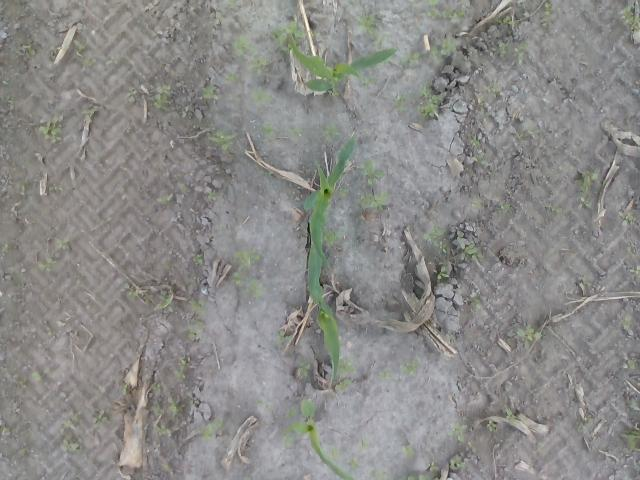Maize: (302, 134, 356, 317), (287, 28, 398, 92), (285, 397, 358, 480), (315, 302, 341, 383)
Weeds: (269, 21, 303, 54), (416, 81, 443, 119), (422, 224, 447, 255), (38, 115, 64, 144), (572, 168, 598, 196), (360, 160, 386, 186), (356, 190, 388, 211), (234, 247, 260, 271), (516, 324, 542, 348), (150, 84, 171, 112), (60, 432, 84, 456), (619, 3, 640, 30), (207, 130, 234, 151), (242, 278, 266, 300), (233, 34, 255, 56), (357, 12, 378, 35), (59, 409, 82, 430), (154, 290, 174, 314), (620, 428, 640, 452), (459, 242, 484, 260), (250, 86, 271, 107), (187, 317, 206, 340), (448, 422, 469, 442), (247, 56, 269, 75), (335, 356, 357, 375), (441, 8, 467, 24), (319, 124, 342, 142), (320, 230, 345, 246), (173, 356, 190, 379), (432, 260, 450, 281), (393, 92, 411, 112), (90, 409, 110, 427), (400, 358, 420, 376), (36, 257, 58, 273), (428, 45, 446, 64), (167, 397, 185, 416), (198, 422, 216, 440), (254, 396, 272, 414), (367, 466, 390, 480), (272, 329, 292, 345), (401, 52, 422, 67), (448, 453, 466, 470), (30, 366, 50, 381), (258, 123, 278, 138), (514, 43, 528, 64), (398, 473, 440, 480), (12, 375, 28, 393), (618, 210, 636, 226), (469, 290, 482, 312), (72, 38, 86, 58), (494, 14, 517, 26), (18, 41, 36, 56), (287, 125, 305, 140), (400, 444, 416, 460), (188, 298, 205, 313), (202, 86, 220, 100), (441, 38, 455, 56), (378, 366, 396, 380), (153, 423, 172, 436), (124, 89, 140, 104), (544, 202, 564, 214), (124, 282, 138, 299), (54, 236, 71, 250), (47, 44, 61, 61), (358, 435, 372, 452), (505, 408, 518, 426), (231, 270, 245, 286), (296, 362, 312, 376), (334, 378, 352, 390), (326, 446, 340, 461), (618, 316, 633, 330), (223, 72, 240, 84), (82, 106, 96, 120), (578, 196, 592, 210), (498, 200, 512, 214), (361, 77, 376, 90), (491, 42, 506, 55), (149, 403, 165, 415), (16, 181, 28, 196), (105, 54, 120, 66), (156, 194, 174, 204), (150, 381, 162, 395), (346, 456, 360, 468), (426, 460, 440, 472), (486, 418, 498, 432), (622, 358, 636, 370), (374, 33, 386, 46), (190, 253, 203, 265), (486, 84, 501, 94), (48, 183, 64, 192), (282, 434, 294, 446), (580, 274, 592, 286), (206, 189, 217, 202), (84, 57, 98, 67), (630, 398, 640, 412), (336, 187, 350, 197), (428, 8, 440, 19), (4, 94, 15, 106), (466, 441, 477, 453), (379, 56, 392, 66), (626, 245, 636, 258), (576, 416, 584, 432), (186, 392, 195, 406), (629, 265, 640, 276), (214, 10, 222, 25), (470, 134, 480, 146), (213, 417, 223, 429), (258, 168, 272, 176), (539, 18, 550, 28), (475, 153, 485, 164), (0, 425, 11, 435), (284, 409, 296, 418), (544, 2, 552, 15), (482, 112, 492, 122), (119, 384, 129, 394), (472, 198, 482, 208), (536, 442, 545, 452), (161, 462, 170, 472), (586, 414, 596, 423), (182, 106, 190, 117), (456, 229, 463, 241), (328, 88, 338, 96), (514, 131, 524, 139), (46, 326, 54, 336), (446, 329, 454, 339), (226, 0, 238, 6), (1, 244, 9, 253), (310, 30, 320, 37), (59, 391, 68, 398), (428, 0, 438, 6), (163, 261, 170, 269), (188, 276, 195, 283), (18, 448, 26, 454), (527, 130, 538, 134), (160, 61, 167, 66), (246, 476, 252, 480)
